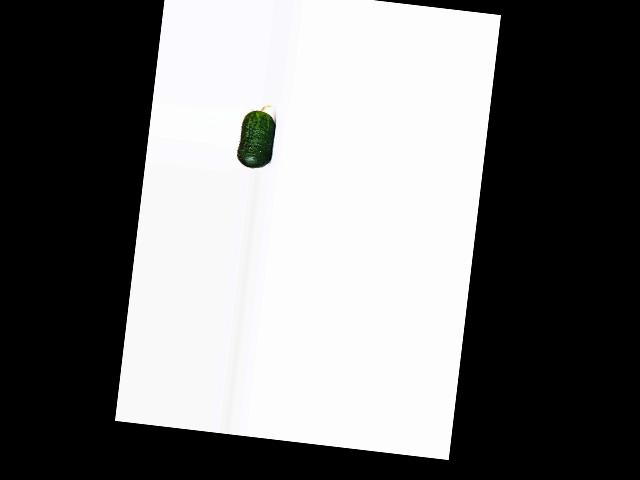cucumber: (235, 102, 278, 169)
